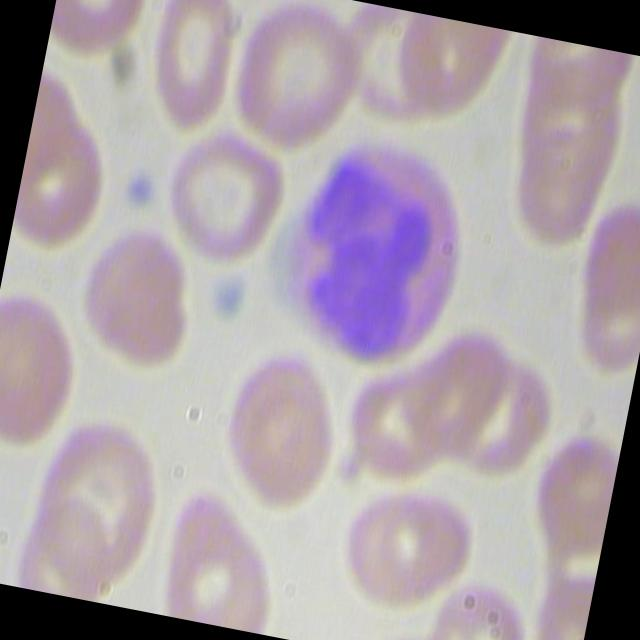Platelets: (200, 266, 264, 338), (123, 168, 160, 214)
RBC: (205, 336, 355, 526), (221, 0, 378, 163), (68, 206, 210, 382), (333, 463, 491, 621), (153, 121, 299, 276), (157, 478, 300, 636), (9, 106, 125, 266), (0, 282, 98, 463), (561, 183, 640, 384), (139, 0, 252, 135), (46, 0, 153, 72)
WBC: (263, 115, 500, 383)
